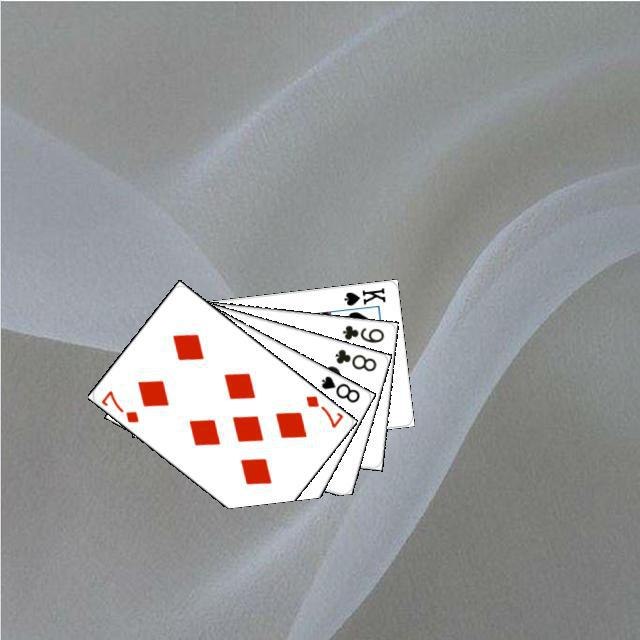7d: (300, 390, 344, 430), (97, 385, 141, 425)
8c: (330, 344, 378, 373)
8s: (316, 371, 362, 404)
9c: (338, 320, 386, 344)
Ks: (339, 283, 387, 307)
